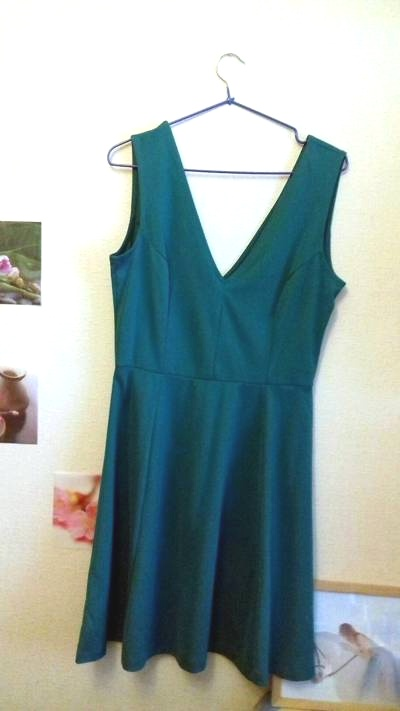Dress: (68, 93, 377, 684)
